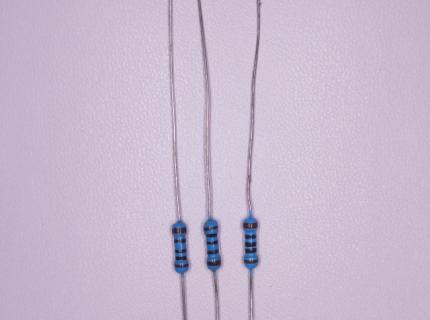Black band: (205, 232, 217, 238), (207, 249, 219, 255), (245, 241, 256, 247), (175, 256, 187, 261), (174, 238, 186, 243), (175, 248, 186, 253), (206, 240, 217, 245), (245, 234, 256, 239), (246, 248, 257, 253)
Brown band: (207, 259, 221, 267), (172, 227, 187, 234), (204, 225, 219, 232), (243, 222, 258, 229), (174, 263, 189, 269), (244, 259, 259, 264)
